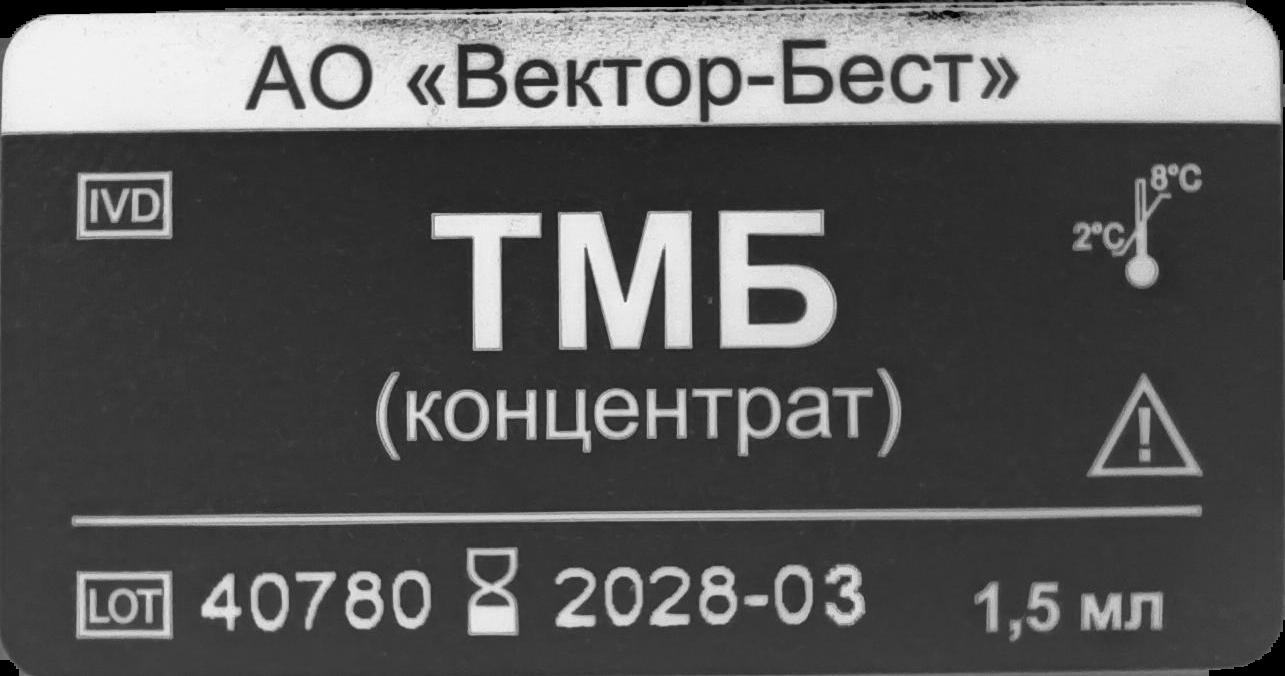something: (1065, 160, 1207, 292), (1086, 370, 1204, 478), (74, 168, 173, 242), (73, 569, 173, 642), (464, 544, 521, 639)
text: (371, 204, 906, 467), (245, 34, 1018, 126), (549, 564, 863, 635), (198, 569, 435, 641), (969, 575, 1167, 648)
